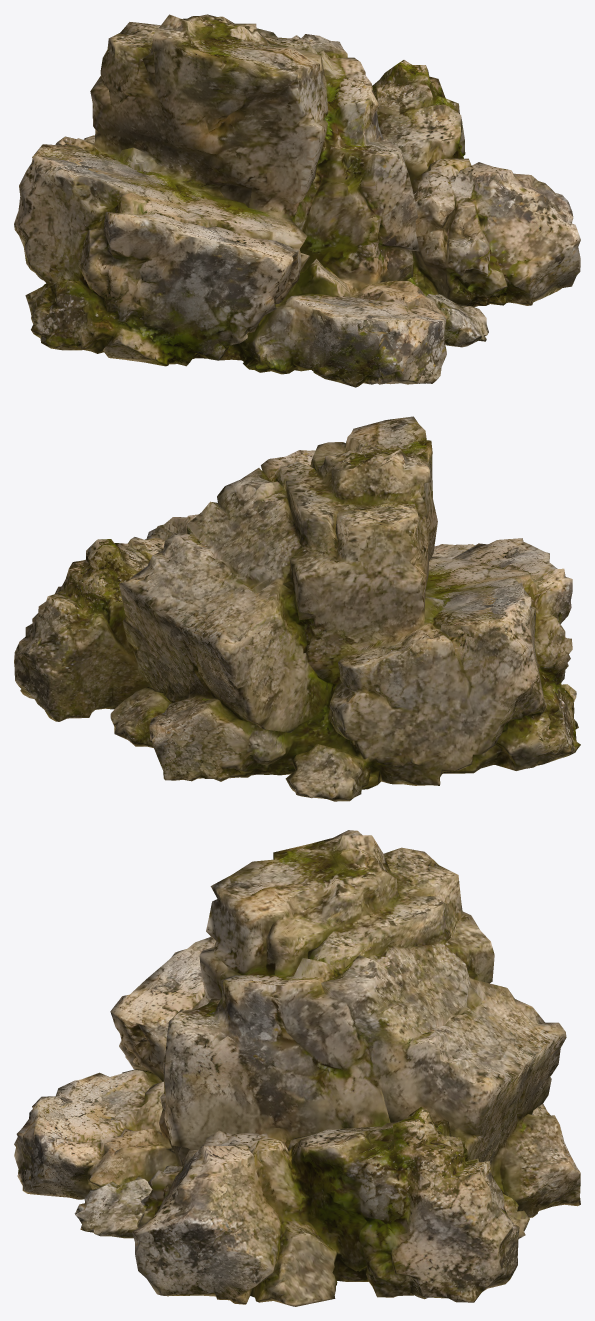
The model's file is ROC_RocaFragmentada_01_LOD0.fbx.
3 views of the same model, one above another, from view 1: azimuth 30°, elevation 25°; view 2: azimuth 150°, elevation 25°; view 3: azimuth 270°, elevation 25° (orthographic). The views are drawn at different scales.
Parts seen in each view (by area): view 1: ROC_RocaFragmentada_01_Mesh000; view 2: ROC_RocaFragmentada_01_Mesh000; view 3: ROC_RocaFragmentada_01_Mesh000.
Part boxes in pixels (x1,y1,x2,y2): ROC_RocaFragmentada_01_Mesh000: (14,14,580,387); ROC_RocaFragmentada_01_Mesh000: (14,416,580,801); ROC_RocaFragmentada_01_Mesh000: (14,830,580,1306).
Size of the model in its own units: 2.8 by 1.56 by 2.63.
